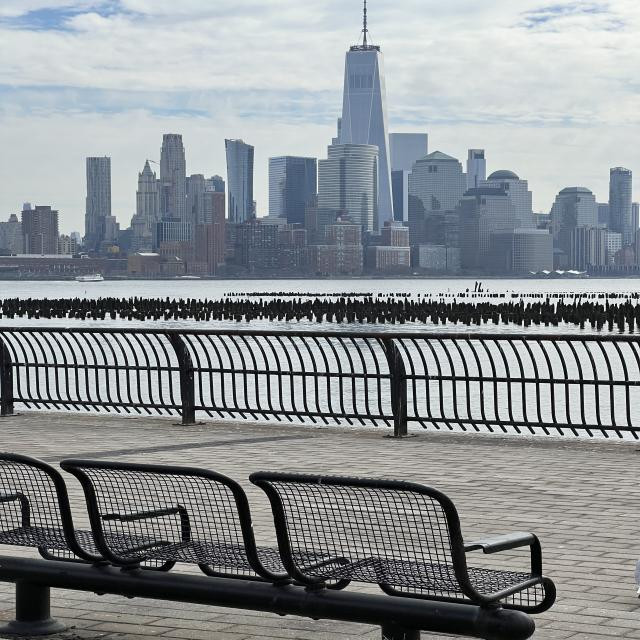WTC: (340, 1, 389, 145)
